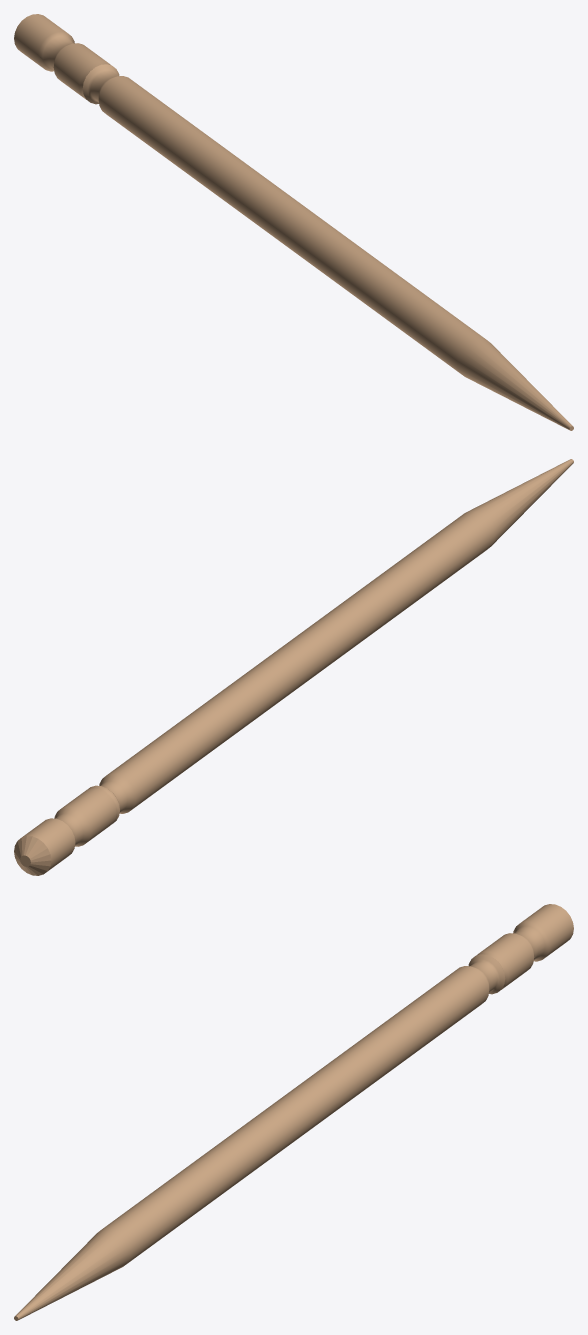
Rendered from SM_SmallPick.fbx.
3 renders of one model, top to bottom at view 1: azimuth 30°, elevation 25°; view 2: azimuth 150°, elevation 25°; view 3: azimuth 330°, elevation 25°, orthographic.
Parts seen in each view (by area): view 1: SmallPick; view 2: SmallPick; view 3: SmallPick.
Part boxes in pixels (bbox=[...]): SmallPick: bbox=[14, 14, 573, 430]; SmallPick: bbox=[14, 459, 573, 875]; SmallPick: bbox=[14, 904, 573, 1320].
Size of the model in its own units: 0.00264 by 0.00265 by 0.0669.
